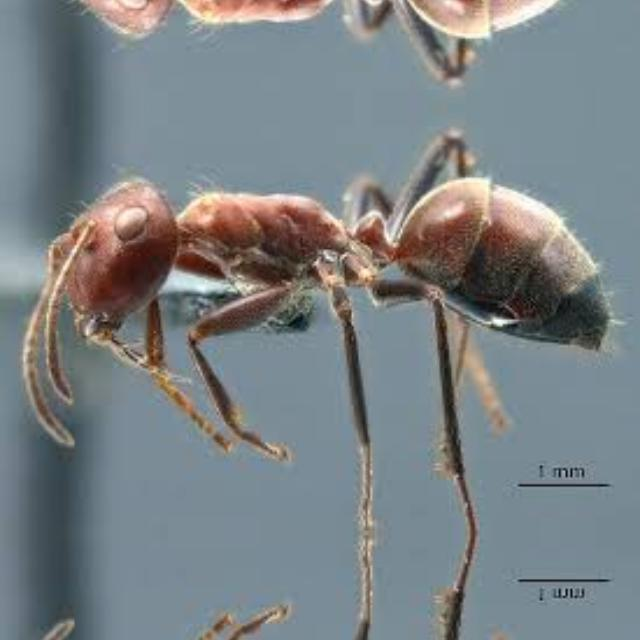Colobopsis: (5, 150, 623, 432), (5, 0, 623, 64)
